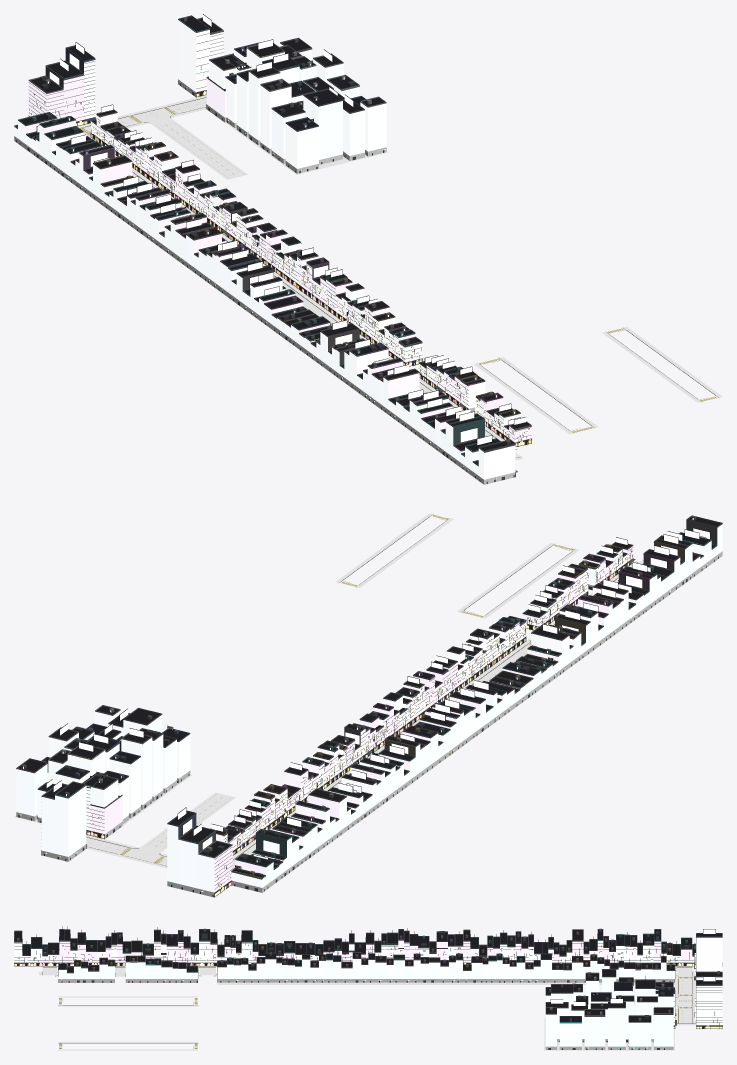
Rendered from world-phone-west.glb.
3 renders of one model, top to bottom at view 1: azimuth 30°, elevation 25°; view 2: azimuth 150°, elevation 25°; view 3: azimuth 270°, elevation 25°, orthographic. The views are drawn at different scales.
Parts seen in each view (by area): view 1: japantown_facade, mega_facade, japantown_trim, japantown_roof, japantown_billboard, mega_roof, mega_trim, japantown_concrete, japantown_board_frame, japantown_sign, mega_asphalt, deck_sidewalk (+3 smaller); view 2: japantown_facade, mega_facade, japantown_trim, japantown_roof, japantown_billboard, mega_roof, mega_trim, japantown_board_frame, japantown_concrete, japantown_sign, mega_asphalt, deck_sidewalk (+5 smaller); view 3: japantown_facade, japantown_roof, japantown_trim, mega_facade, mega_roof, mega_trim, japantown_concrete, japantown_board_frame, japantown_sidewalk, deck_sidewalk, mega_asphalt, mega_sidewalk (+9 smaller).
Boxes of the visible parts, x1,y1,x2,y2 form: japantown_facade: [14, 113, 531, 479]; mega_facade: [28, 20, 386, 168]; japantown_trim: [14, 109, 531, 477]; japantown_roof: [16, 110, 529, 464]; japantown_billboard: [37, 105, 526, 444]; mega_roof: [31, 16, 384, 130]; mega_trim: [28, 15, 386, 135]; japantown_concrete: [14, 136, 515, 484]; japantown_board_frame: [36, 104, 529, 478]; japantown_sign: [67, 118, 530, 479]; mega_asphalt: [80, 97, 247, 188]; deck_sidewalk: [419, 326, 722, 441]; japantown_facade: [216, 524, 722, 887]; mega_facade: [16, 710, 232, 892]; japantown_trim: [210, 515, 722, 885]; japantown_roof: [216, 517, 720, 877]; japantown_billboard: [211, 528, 709, 859]; mega_roof: [18, 706, 230, 857]; mega_trim: [16, 705, 232, 897]; japantown_board_frame: [211, 528, 710, 868]; japantown_concrete: [231, 551, 722, 892]; japantown_sign: [224, 550, 707, 851]; mega_asphalt: [86, 792, 255, 868]; deck_sidewalk: [336, 513, 632, 625]; japantown_facade: [14, 940, 695, 979]; japantown_roof: [14, 929, 695, 972]; japantown_trim: [14, 928, 695, 982]; mega_facade: [545, 937, 722, 1046]; mega_roof: [546, 933, 722, 1022]; mega_trim: [545, 933, 722, 1028]; japantown_concrete: [58, 979, 674, 982]; japantown_board_frame: [18, 926, 695, 980]; japantown_sidewalk: [39, 966, 678, 984]; deck_sidewalk: [55, 966, 201, 1050]; mega_asphalt: [634, 968, 692, 1023]; mega_sidewalk: [544, 966, 695, 1050].
Bounding box in the file's own units: 256 × 68.98 × 803.
